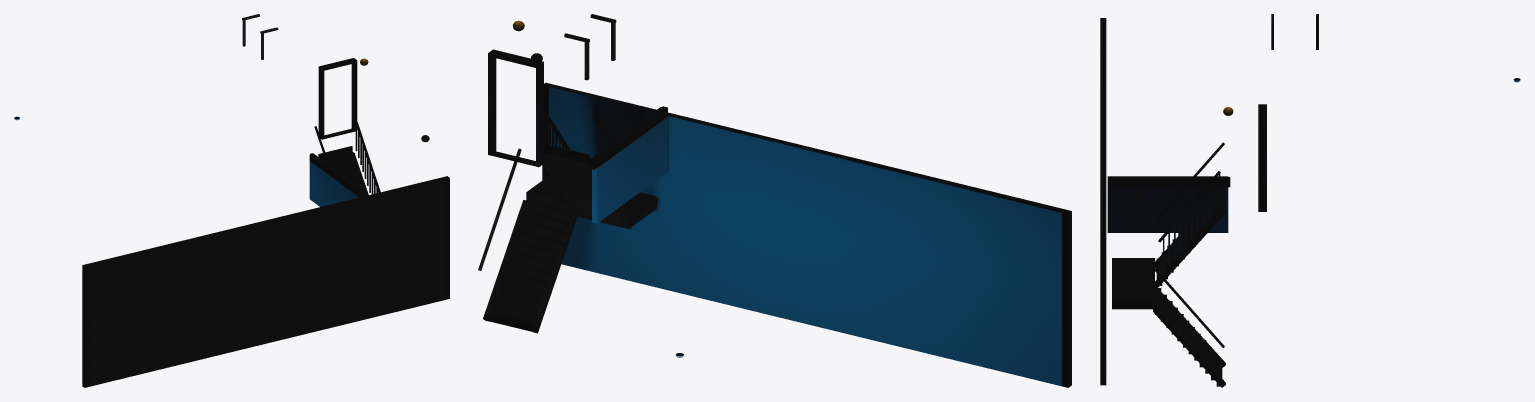
File: basement.glb
3 views of the same model, side by side, from view 1: azimuth 30°, elevation 25°; view 2: azimuth 150°, elevation 25°; view 3: azimuth 270°, elevation 25° (orthographic). The views are drawn at different scales.
Parts seen in each view (by area): view 1: Finish / Cellar front closure, Finish / stair side enclosure, Finish / stairs casing, Finish / stairs casing.001; view 2: Finish / Cellar front closure, Finish / stair side enclosure, Finish / Half landing, Finish / return stringer, Finish / stairs casing.001, Finish / stairs casing, Finish / return stringer.001; view 3: Finish / stair side enclosure, Finish / Cellar front closure, Finish / Half landing, Finish / stair opening liner, Finish / stairs casing.001, Finish / return stringer.001, Finish / first stringer.001.
Boxes of the visible parts, bbox=[...] form: Finish / Cellar front closure: bbox=[82, 176, 449, 387]; Finish / stair side enclosure: bbox=[309, 154, 362, 206]; Finish / stairs casing: bbox=[318, 69, 324, 139]; Finish / stairs casing.001: bbox=[351, 63, 357, 131]; Finish / Cellar front closure: bbox=[542, 82, 1071, 387]; Finish / stair side enclosure: bbox=[592, 106, 667, 223]; Finish / Half landing: bbox=[527, 175, 657, 226]; Finish / return stringer: bbox=[530, 211, 577, 333]; Finish / stairs casing.001: bbox=[488, 56, 496, 155]; Finish / stairs casing: bbox=[536, 65, 543, 167]; Finish / return stringer.001: bbox=[483, 200, 528, 321]; Finish / stair side enclosure: bbox=[1107, 176, 1228, 232]; Finish / Cellar front closure: bbox=[1100, 18, 1106, 385]; Finish / Half landing: bbox=[1112, 258, 1154, 309]; Finish / stair opening liner: bbox=[1109, 177, 1230, 187]; Finish / stairs casing.001: bbox=[1258, 128, 1266, 211]; Finish / return stringer.001: bbox=[1153, 307, 1225, 387]; Finish / first stringer.001: bbox=[1155, 209, 1225, 287].
Bounding box in the file's own units: 12 × 7.87 × 9.75.
Materials: 4 (4 with a texture image).
